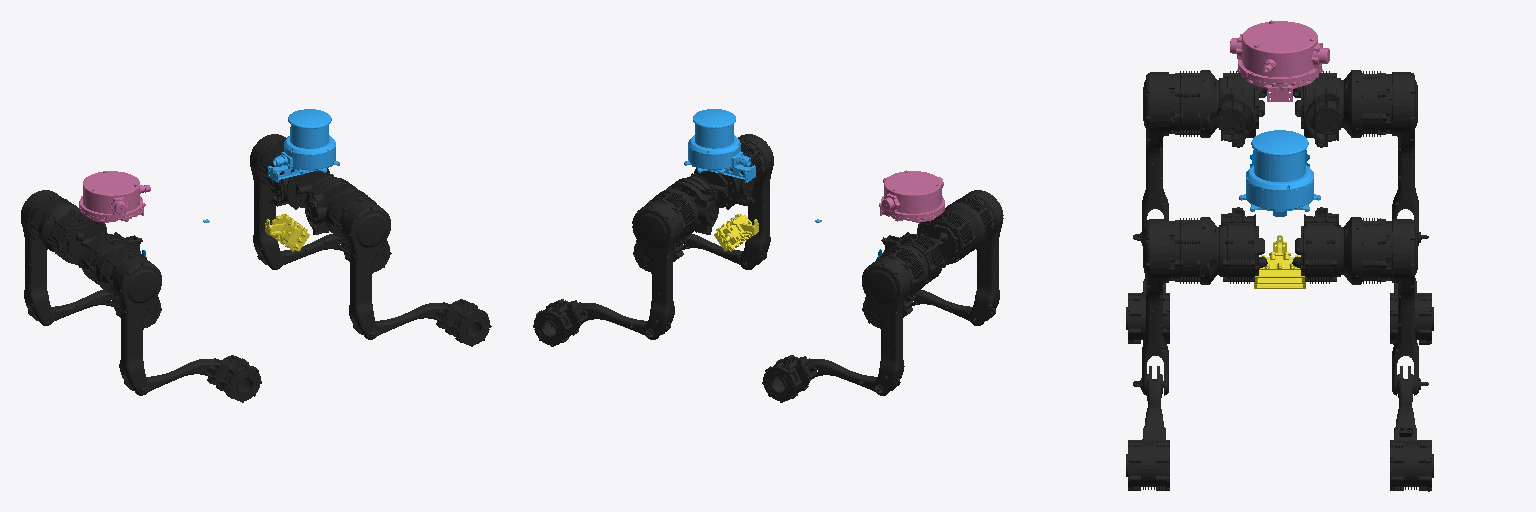
robot.urdf — robot:
<?xml version='1.0' encoding='utf-8'?>
<robot name="robot">
  <material name="black">
    <color rgba="0.0 0.0 0.0 1.0" />
  </material>
  <material name="blue">
    <color rgba="0.0 0.0 0.8 1.0" />
  </material>
  <material name="green">
    <color rgba="0.0 0.8 0.0 1.0" />
  </material>
  <material name="grey">
    <color rgba="0.2 0.2 0.2 1.0" />
  </material>
  <material name="silver">
    <color rgba="0.9137254901960784 0.9137254901960784 0.8470588235294118 1.0" />
  </material>
  <material name="orange">
    <color rgba="1.0 0.4235294117647059 0.0392156862745098 1.0" />
  </material>
  <material name="brown">
    <color rgba="0.8705882352941177 0.8117647058823529 0.7647058823529411 1.0" />
  </material>
  <material name="red">
    <color rgba="0.8 0.0 0.0 1.0" />
  </material>
  <material name="white">
    <color rgba="1.0 1.0 1.0 1.0" />
  </material>
  <material name="body">
    <color rgba="0.73 0.73 0.73 1.0" />
  </material>
  <material name="lidar">
    <color rgba="0.25 0.7 1 1.0" />
  </material>
  <link name="base">
    <visual>
      <origin rpy="0 0 0" xyz="0 0 0" />
      <geometry>
        <mesh filename="../meshes/x5/trunk.STL" scale="1 1 1" />
      </geometry>
      <material name="body" />
    </visual>
    <collision>
      <origin rpy="0 0 0" xyz="0 0 0" />
      <geometry>
        <box size="0.423 0.404 0.252" />
      </geometry>
    </collision>
    <inertial>
      <origin rpy="0 0 0" xyz="-0.011007 -0.009119 0.02432" />
      <mass value="46.707585" />
      <inertia ixx="0.779484" ixy="-0.002614" ixz="-0.012602" iyy="1.573689" iyz="0.006043" izz="1.943058" />
    </inertial>
  </link>
  <joint name="robot_imu_joint" type="fixed">
    <origin rpy="0. 0. 0." xyz="0. 0. 0." />
    <parent link="base" />
    <child link="robot_imu" />
  </joint>
  <link name="robot_imu">
    <inertial>
      <mass value="0.01" />
      <origin rpy="0 0 0" xyz="0 0 0" />
      <inertia ixx="0.000001" ixy="0" ixz="0" iyy="0.000001" iyz="0" izz="0.000001" />
    </inertial>
    <visual>
      <origin rpy="0 0 0" xyz="0 0 0" />
      <geometry>
        <box size="0.015 0.015 0.004" />
      </geometry>
    </visual>
    <material name="orange">
      <color rgba="255 108 10 255" />
    </material>
  </link>
  <joint name="robot_lidar_joint" type="fixed">
    <origin rpy="0. 0. 0." xyz="0.342 0 0.1455" />
    <parent link="base" />
    <child link="robot_lidar" />
  </joint>
  <link name="robot_lidar">
    <inertial>
      <mass value="3.2" />
      <origin rpy="0 0 0" xyz="-0.007263 -7.5e-05 0.008957" />
      <inertia ixx="0.009862" ixy="-1e-06" ixz="0.001287" iyy="0.012102" iyz="1e-05" izz="0.009133" />
    </inertial>
    <visual>
      <geometry>
        <mesh filename="../meshes/x5/lidar.STL" scale="1 1 1" />
      </geometry>
      <material name="lidar" />
    </visual>
  </link>
  <joint name="front_camera_joint" type="fixed">
    <origin rpy="0 0 0" xyz="0.203 0 -0.065" />
    <parent link="base" />
    <child link="front_camera" />
  </joint>
  <link name="front_camera">
    <inertial>
      <mass value="0.614" />
      <origin rpy="0 0 0" xyz="0.067231 0.006821 -0.02655" />
      <inertia ixx="0.001179" ixy="-2.3e-05" ixz="-3.6e-05" iyy="0.000629" iyz="2.7e-05" izz="0.001319" />
    </inertial>
    <visual>
      <geometry>
        <mesh filename="../meshes/x5/front_camera.STL" scale="1 1 1" />
      </geometry>
    </visual>
  </link>
  <joint name="rear_camera_joint" type="fixed">
    <origin rpy="0 0 3.141592653589793" xyz="-0.203 0 -0.065" />
    <parent link="base" />
    <child link="rear_camera" />
  </joint>
  <link name="rear_camera">
    <inertial>
      <mass value="0.614" />
      <origin rpy="0 0 0" xyz="0.067231 -0.006821 -0.02655" />
      <inertia ixx="0.001179" ixy="2.3e-05" ixz="-3.6e-05" iyy="0.000629" iyz="-2.7e-05" izz="0.001319" />
    </inertial>
    <visual>
      <geometry>
        <mesh filename="../meshes/x5/front_camera.STL" scale="1 1 1" />
      </geometry>
    </visual>
  </link>
  <joint name="robot_ptz_joint" type="fixed">
    <origin rpy="0 0 0" xyz="0.102 0 0.2325" />
    <parent link="base" />
    <child link="robot_ptz" />
  </joint>
  <link name="robot_ptz">
    <inertial>
      <mass value="10" />
      <origin rpy="0 0 0" xyz="-0.003022 -0.010044 0.06516" />
      <inertia ixx="0.024739" ixy="0.000221" ixz="-0.000325" iyy="0.019073" iyz="-0.001701" izz="0.013692" />
    </inertial>
    <visual>
      <geometry>
        <mesh filename="../meshes/x5/PTZ.STL" scale="1 1 1" />
      </geometry>
      <material name="ptz" />
    </visual>
  </link>
  <joint name="robot_fire_joint" type="fixed">
    <origin rpy="0 0 0" xyz="-0.3125 0 0.154" />
    <parent link="base" />
    <child link="robot_fire" />
  </joint>
  <link name="robot_fire">
    <inertial>
      <mass value="2.48" />
      <origin rpy="0 0 0" xyz="0.004344 -0.000615 -0.007606" />
      <inertia ixx="0.007986" ixy="0.000322" ixz="-0.000166" iyy="0.007455" iyz="-2.9e-05" izz="0.01165" />
    </inertial>
    <visual>
      <geometry>
        <mesh filename="../meshes/x5/fire.STL" scale="1 1 1" />
      </geometry>
    </visual>
  </link>
  <joint name="RF_HAA" type="revolute">
    <origin rpy="0 0 0" xyz="0.2905 -0.106 0.00125" />
    <parent link="base" />
    <child link="RF_hip" />
    <axis xyz="1 0 0" />
    <dynamics damping="0" friction="0" />
    <limit effort="300" lower="-0.87" upper="0.72" velocity="6" />
  </joint>
  <link name="RF_hip">
    <visual>
      <geometry>
        <mesh filename="../meshes/x5/hip_mirror.STL" scale="1 1 1" />
      </geometry>
      <material name="grey" />
    </visual>
    <collision>
      <origin rpy="0 1.5707963267948966 0" xyz="-0.04425 0 0" />
      <geometry>
        <cylinder length="0.08" radius="0.065" />
      </geometry>
    </collision>
    <inertial>
      <origin rpy="0 0 0" xyz="0.063485 0.012296 0.004802" />
      <mass value="3.8" />
      <inertia ixx="0.009206" ixy="0.00024" ixz="0.000104" iyy="0.013536" iyz="0.000107" izz="0.010793" />
    </inertial>
  </link>
  <joint name="RF_HFE" type="revolute">
    <origin rpy="0 0 0" xyz="0.0878 -0.1675 0" />
    <parent link="RF_hip" />
    <child link="RF_thigh" />
    <axis xyz="0 1 0" />
    <dynamics damping="0" friction="0" />
    <limit effort="250" lower="-1.83" upper="2.618" velocity="6" />
  </joint>
  <link name="RF_thigh">
    <visual>
      <origin rpy="0 0 0" xyz="0 0 0" />
      <geometry>
        <mesh filename="../meshes/x5/thigh_mirror.STL" scale="1 1 1" />
      </geometry>
      <material name="grey" />
    </visual>
    <collision>
      <origin rpy="1.57 0 0" xyz="0 0.172 0" />
      <geometry>
        <cylinder length="0.08" radius="0.065" />
      </geometry>
    </collision>
    <collision>
      <origin rpy="1.57 0 0" xyz="0 0.0735 0" />
      <geometry>
        <cylinder length="0.08" radius="0.065" />
      </geometry>
    </collision>
    <collision>
      <origin rpy="0 1.5707963267948966 0" xyz="-0.01 0 -0.16" />
      <geometry>
        <box size="0.22 0.04 0.04" />
      </geometry>
    </collision>
    <inertial>
      <origin rpy="0 0 0" xyz="-0.002806 0.065016 -0.02469" />
      <mass value="4.760548" />
      <inertia ixx="0.040126" ixy="0.0009" ixz="0.002173" iyy="0.035414" iyz="0.006253" izz="0.016667" />
    </inertial>
  </link>
  <joint name="RF_KFE" type="revolute">
    <origin rpy="0 0 0" xyz="0 0.0 -0.32" />
    <parent link="RF_thigh" />
    <child link="RF_calf" />
    <axis xyz="0 1 0" />
    <dynamics damping="0" friction="0" />
    <limit effort="250" lower="-2.43" upper="-0.41" velocity="8" />
  </joint>
  <link name="RF_calf">
    <visual>
      <origin rpy="0 0 0" xyz="0 0 0" />
      <geometry>
        <mesh filename="../meshes/x5/calf_mirror.STL" scale="1 1 1" />
      </geometry>
      <material name="grey" />
    </visual>
    <collision>
      <origin rpy="0 1.5707963267948966 0" xyz="0 0 -0.16" />
      <geometry>
        <box size="0.27 0.010000000000000002 0.05" />
      </geometry>
    </collision>
    <inertial>
      <origin rpy="0 0 0" xyz="-0.004459 -0.006099 -0.214568" />
      <mass value="3.258139" />
      <inertia ixx="0.093479" ixy="0.000129" ixz="0.002676" iyy="0.093858" iyz="0.001795" izz="0.001266" />
    </inertial>
  </link>
  <joint name="RF_WHEEL" type="continuous">
    <origin rpy="0 0 0" xyz="-0.00029 -0.053 -0.32" />
    <parent link="RF_calf" />
    <child link="RF_FOOT" />
    <axis xyz="0 1 0" />
    <dynamics damping="0" friction="0" />
    <limit effort="30" velocity="30" />
  </joint>
  <link name="RF_FOOT">
    <visual>
      <origin rpy="0 0 0" xyz="0 0 0" />
      <geometry>
        <mesh filename="../meshes/x5/wheel_mirror.STL" scale="1 1 1" />
      </geometry>
      <material name="orange" />
    </visual>
    <collision>
      <origin rpy="1.5707963267948966 0 0" xyz="0 0 0" />
      <geometry>
        <cylinder length="0.04" radius="0.1005" />
      </geometry>
    </collision>
    <collision>
      <origin rpy="1.5707963267948966 0 0" xyz="0 0.04825 0" />
      <geometry>
        <cylinder length="0.08" radius="0.065" />
      </geometry>
    </collision>
    <inertial>
      <origin rpy="0 0 0" xyz="1.1e-05 0.003943 2e-05" />
      <mass value="1.22" />
      <inertia ixx="0.002046" ixy="-0.0" ixz="0.0" iyy="0.003811" iyz="-0.0" izz="0.002046" />
    </inertial>
  </link>
  <joint name="LF_HAA" type="revolute">
    <origin rpy="0 0 0" xyz="0.2905 0.106 0.00125" />
    <parent link="base" />
    <child link="LF_hip" />
    <axis xyz="1 0 0" />
    <dynamics damping="0" friction="0" />
    <limit effort="300" lower="-0.72" upper="0.87" velocity="6" />
  </joint>
  <link name="LF_hip">
    <visual>
      <origin rpy="0 0 0" xyz="0 0 0" />
      <geometry>
        <mesh filename="../meshes/x5/hip.STL" scale="1 1 1" />
      </geometry>
      <material name="grey" />
    </visual>
    <collision>
      <origin rpy="0 1.5707963267948966 0" xyz="-0.04425 0 0" />
      <geometry>
        <cylinder length="0.08" radius="0.065" />
      </geometry>
    </collision>
    <inertial>
      <origin rpy="0 0 0" xyz="0.063485 -0.012296 0.004802" />
      <mass value="3.8" />
      <inertia ixx="0.009206" ixy="-0.00024" ixz="0.000104" iyy="0.013536" iyz="-0.000107" izz="0.010793" />
    </inertial>
  </link>
  <joint name="LF_HFE" type="revolute">
    <origin rpy="0 0 0" xyz="0.0878 0.1675 0" />
    <parent link="LF_hip" />
    <child link="LF_thigh" />
    <axis xyz="0 1 0" />
    <dynamics damping="0" friction="0" />
    <limit effort="250" lower="-1.83" upper="2.618" velocity="6" />
  </joint>
  <link name="LF_thigh">
    <visual>
      <origin rpy="0 0 0" xyz="0 0 0" />
      <geometry>
        <mesh filename="../meshes/x5/thigh.STL" scale="1 1 1" />
      </geometry>
      <material name="grey" />
    </visual>
    <collision>
      <origin rpy="1.57 0 0" xyz="0 -0.172 0" />
      <geometry>
        <cylinder length="0.08" radius="0.065" />
      </geometry>
    </collision>
    <collision>
      <origin rpy="1.57 0 0" xyz="0 -0.0735 0" />
      <geometry>
        <cylinder length="0.08" radius="0.065" />
      </geometry>
    </collision>
    <collision>
      <origin rpy="0 1.5707963267948966 0" xyz="-0.01 0 -0.16" />
      <geometry>
        <box size="0.22 0.04 0.04" />
      </geometry>
    </collision>
    <inertial>
      <origin rpy="0 0 0" xyz="-0.002806 -0.065016 -0.02469" />
      <mass value="4.760548" />
      <inertia ixx="0.040126" ixy="-0.0009" ixz="0.002173" iyy="0.035414" iyz="-0.006253" izz="0.016667" />
    </inertial>
  </link>
  <joint name="LF_KFE" type="revolute">
    <origin rpy="0 0 0" xyz="0 -0.0 -0.32" />
    <parent link="LF_thigh" />
    <child link="LF_calf" />
    <axis xyz="0 1 0" />
    <dynamics damping="0" friction="0" />
    <limit effort="250" lower="-2.43" upper="-0.41" velocity="8" />
  </joint>
  <link name="LF_calf">
    <visual>
      <origin rpy="0 0 0" xyz="0 0 0" />
      <geometry>
        <mesh filename="../meshes/x5/calf.STL" scale="1 1 1" />
      </geometry>
      <material name="grey" />
    </visual>
    <collision>
      <origin rpy="0 1.5707963267948966 0" xyz="0 0 -0.16" />
      <geometry>
        <box size="0.27 0.010000000000000002 0.05" />
      </geometry>
    </collision>
    <inertial>
      <origin rpy="0 0 0" xyz="-0.004459 0.006099 -0.214568" />
      <mass value="3.258139" />
      <inertia ixx="0.093479" ixy="-0.000129" ixz="0.002676" iyy="0.093858" iyz="-0.001795" izz="0.001266" />
    </inertial>
  </link>
  <joint name="LF_WHEEL" type="continuous">
    <origin rpy="0 0 0" xyz="0.00029 0.053 -0.32" />
    <parent link="LF_calf" />
    <child link="LF_FOOT" />
    <axis xyz="0 1 0" />
    <dynamics damping="0" friction="0" />
    <limit effort="30" velocity="30" />
  </joint>
  <link name="LF_FOOT">
    <visual>
      <origin rpy="0 0 0" xyz="0 0 0" />
      <geometry>
        <mesh filename="../meshes/x5/wheel.STL" scale="1 1 1" />
      </geometry>
      <material name="orange" />
    </visual>
    <collision>
      <origin rpy="1.5707963267948966 0 0" xyz="0 0 0" />
      <geometry>
        <cylinder length="0.04" radius="0.1005" />
      </geometry>
    </collision>
    <collision>
      <origin rpy="1.5707963267948966 0 0" xyz="0 -0.04825 0" />
      <geometry>
        <cylinder length="0.08" radius="0.065" />
      </geometry>
    </collision>
    <inertial>
      <origin rpy="0 0 0" xyz="1.1e-05 -0.003943 2e-05" />
      <mass value="1.22" />
      <inertia ixx="0.002046" ixy="0.0" ixz="0.0" iyy="0.003811" iyz="0.0" izz="0.002046" />
    </inertial>
  </link>
  <joint name="RH_HAA" type="revolute">
    <origin rpy="0 0 0" xyz="-0.2905 -0.106 0.00125" />
    <parent link="base" />
    <child link="RH_hip" />
    <axis xyz="1 0 0" />
    <dynamics damping="0" friction="0" />
    <limit effort="300" lower="-0.87" upper="0.72" velocity="6" />
  </joint>
  <link name="RH_hip">
    <visual>
      <origin rpy="0 3.141592653589793 0" xyz="0 0 0" />
      <geometry>
        <mesh filename="../meshes/x5/hip_mirror.STL" scale="1 1 1" />
      </geometry>
      <material name="grey" />
    </visual>
    <collision>
      <origin rpy="0 1.5707963267948966 0" xyz="0.04425 0 0" />
      <geometry>
        <cylinder length="0.08" radius="0.065" />
      </geometry>
    </collision>
    <inertial>
      <origin rpy="0 0 0" xyz="-0.063485 0.012296 0.004802" />
      <mass value="3.8" />
      <inertia ixx="0.009206" ixy="-0.00024" ixz="-0.000104" iyy="0.013536" iyz="0.000107" izz="0.010793" />
    </inertial>
  </link>
  <joint name="RH_HFE" type="revolute">
    <origin rpy="0 0 0" xyz="-0.0878 -0.1675 0" />
    <parent link="RH_hip" />
    <child link="RH_thigh" />
    <axis xyz="0 1 0" />
    <dynamics damping="0" friction="0" />
    <limit effort="250" lower="-1.83" upper="2.618" velocity="6" />
  </joint>
  <link name="RH_thigh">
    <visual>
      <origin rpy="0 0 0" xyz="0 0 0" />
      <geometry>
        <mesh filename="../meshes/x5/thigh_mirror.STL" scale="1 1 1" />
      </geometry>
      <material name="grey" />
    </visual>
    <collision>
      <origin rpy="1.57 0 0" xyz="0 0.172 0" />
      <geometry>
        <cylinder length="0.08" radius="0.065" />
      </geometry>
    </collision>
    <collision>
      <origin rpy="1.57 0 0" xyz="0 0.0735 0" />
      <geometry>
        <cylinder length="0.08" radius="0.065" />
      </geometry>
    </collision>
    <collision>
      <origin rpy="0 1.5707963267948966 0" xyz="-0.01 0 -0.16" />
      <geometry>
        <box size="0.22 0.04 0.04" />
      </geometry>
    </collision>
    <inertial>
      <origin rpy="0 0 0" xyz="-0.002806 0.065016 -0.02469" />
      <mass value="4.760548" />
      <inertia ixx="0.040126" ixy="0.0009" ixz="0.002173" iyy="0.035414" iyz="0.006253" izz="0.016667" />
    </inertial>
  </link>
  <joint name="RH_KFE" type="revolute">
    <origin rpy="0 0 0" xyz="0 0.0 -0.32" />
    <parent link="RH_thigh" />
    <child link="RH_calf" />
    <axis xyz="0 1 0" />
    <dynamics damping="0" friction="0" />
    <limit effort="250" lower="-2.43" upper="-0.41" velocity="8" />
  </joint>
  <link name="RH_calf">
    <visual>
      <origin rpy="0 0 0" xyz="0 0 0" />
      <geometry>
        <mesh filename="../meshes/x5/calf_mirror.STL" scale="1 1 1" />
      </geometry>
      <material name="grey" />
    </visual>
    <collision>
      <origin rpy="0 1.5707963267948966 0" xyz="0 0 -0.16" />
      <geometry>
        <box size="0.27 0.010000000000000002 0.05" />
      </geometry>
    </collision>
    <inertial>
      <origin rpy="0 0 0" xyz="-0.004459 -0.006099 -0.214568" />
      <mass value="3.258139" />
      <inertia ixx="0.093479" ixy="0.000129" ixz="0.002676" iyy="0.093858" iyz="0.001795" izz="0.001266" />
    </inertial>
  </link>
  <joint name="RH_WHEEL" type="continuous">
    <origin rpy="0 0 0" xyz="-0.00029 -0.053 -0.32" />
    <parent link="RH_calf" />
    <child link="RH_FOOT" />
    <axis xyz="0 1 0" />
    <dynamics damping="0" friction="0" />
    <limit effort="30" velocity="30" />
  </joint>
  <link name="RH_FOOT">
    <visual>
      <origin rpy="0 0 0" xyz="0 0 0" />
      <geometry>
        <mesh filename="../meshes/x5/wheel_mirror.STL" scale="1 1 1" />
      </geometry>
      <material name="orange" />
    </visual>
    <collision>
      <origin rpy="1.5707963267948966 0 0" xyz="0 0 0" />
      <geometry>
        <cylinder length="0.04" radius="0.1005" />
      </geometry>
    </collision>
    <collision>
      <origin rpy="1.5707963267948966 0 0" xyz="0 0.04825 0" />
      <geometry>
        <cylinder length="0.08" radius="0.065" />
      </geometry>
    </collision>
    <inertial>
      <origin rpy="0 0 0" xyz="1.1e-05 0.003943 2e-05" />
      <mass value="1.22" />
      <inertia ixx="0.002046" ixy="-0.0" ixz="0.0" iyy="0.003811" iyz="-0.0" izz="0.002046" />
    </inertial>
  </link>
  <joint name="LH_HAA" type="revolute">
    <origin rpy="0 0 0" xyz="-0.2905 0.106 0.00125" />
    <parent link="base" />
    <child link="LH_hip" />
    <axis xyz="1 0 0" />
    <dynamics damping="0" friction="0" />
    <limit effort="300" lower="-0.72" upper="0.87" velocity="6" />
  </joint>
  <link name="LH_hip">
    <visual>
      <origin rpy="0 3.141592653589793 0" xyz="0 0 0" />
      <geometry>
        <mesh filename="../meshes/x5/hip.STL" scale="1 1 1" />
      </geometry>
      <material name="grey" />
    </visual>
    <collision>
      <origin rpy="0 1.5707963267948966 0" xyz="0.04425 0 0" />
      <geometry>
        <cylinder length="0.08" radius="0.065" />
      </geometry>
    </collision>
    <inertial>
      <origin rpy="0 0 0" xyz="-0.063485 -0.012296 0.004802" />
      <mass value="3.8" />
      <inertia ixx="0.009206" ixy="0.00024" ixz="-0.000104" iyy="0.013536" iyz="-0.000107" izz="0.010793" />
    </inertial>
  </link>
  <joint name="LH_HFE" type="revolute">
    <origin rpy="0 0 0" xyz="-0.0878 0.1675 0" />
    <parent link="LH_hip" />
    <child link="LH_thigh" />
    <axis xyz="0 1 0" />
    <dynamics damping="0" friction="0" />
    <limit effort="250" lower="-1.83" upper="2.618" velocity="6" />
  </joint>
  <link name="LH_thigh">
    <visual>
      <origin rpy="0 0 0" xyz="0 0 0" />
      <geometry>
        <mesh filename="../meshes/x5/thigh.STL" scale="1 1 1" />
      </geometry>
      <material name="grey" />
    </visual>
    <collision>
      <origin rpy="1.57 0 0" xyz="0 -0.172 0" />
      <geometry>
        <cylinder length="0.08" radius="0.065" />
      </geometry>
    </collision>
    <collision>
      <origin rpy="1.57 0 0" xyz="0 -0.0735 0" />
      <geometry>
        <cylinder length="0.08" radius="0.065" />
      </geometry>
    </collision>
    <collision>
      <origin rpy="0 1.5707963267948966 0" xyz="-0.01 0 -0.16" />
      <geometry>
        <box size="0.22 0.04 0.04" />
      </geometry>
    </collision>
    <inertial>
      <origin rpy="0 0 0" xyz="-0.002806 -0.065016 -0.02469" />
      <mass value="4.760548" />
      <inertia ixx="0.040126" ixy="-0.0009" ixz="0.002173" iyy="0.035414" iyz="-0.006253" izz="0.016667" />
    </inertial>
  </link>
  <joint name="LH_KFE" type="revolute">
    <origin rpy="0 0 0" xyz="0 -0.0 -0.32" />
    <parent link="LH_thigh" />
    <child link="LH_calf" />
    <axis xyz="0 1 0" />
    <dynamics damping="0" friction="0" />
    <limit effort="250" lower="-2.43" upper="-0.41" velocity="8" />
  </joint>
  <link name="LH_calf">
    <visual>
      <origin rpy="0 0 0" xyz="0 0 0" />
      <geometry>
        <mesh filename="../meshes/x5/calf.STL" scale="1 1 1" />
      </geometry>
      <material name="grey" />
    </visual>
    <collision>
      <origin rpy="0 1.5707963267948966 0" xyz="0 0 -0.16" />
      <geometry>
        <box size="0.27 0.010000000000000002 0.05" />
      </geometry>
    </collision>
    <inertial>
      <origin rpy="0 0 0" xyz="-0.004459 0.006099 -0.214568" />
      <mass value="3.258139" />
      <inertia ixx="0.093479" ixy="-0.000129" ixz="0.002676" iyy="0.093858" iyz="-0.001795" izz="0.001266" />
    </inertial>
  </link>
  <joint name="LH_WHEEL" type="continuous">
    <origin rpy="0 0 0" xyz="0.00029 0.053 -0.32" />
    <parent link="LH_calf" />
    <child link="LH_FOOT" />
    <axis xyz="0 1 0" />
    <dynamics damping="0" friction="0" />
    <limit effort="30" velocity="30" />
  </joint>
  <link name="LH_FOOT">
    <visual>
      <origin rpy="0 0 0" xyz="0 0 0" />
      <geometry>
        <mesh filename="../meshes/x5/wheel.STL" scale="1 1 1" />
      </geometry>
      <material name="orange" />
    </visual>
    <collision>
      <origin rpy="1.5707963267948966 0 0" xyz="0 0 0" />
      <geometry>
        <cylinder length="0.04" radius="0.1005" />
      </geometry>
    </collision>
    <collision>
      <origin rpy="1.5707963267948966 0 0" xyz="0 -0.04825 0" />
      <geometry>
        <cylinder length="0.08" radius="0.065" />
      </geometry>
    </collision>
    <inertial>
      <origin rpy="0 0 0" xyz="1.1e-05 -0.003943 2e-05" />
      <mass value="1.22" />
      <inertia ixx="0.002046" ixy="0.0" ixz="0.0" iyy="0.003811" iyz="0.0" izz="0.002046" />
    </inertial>
  </link>
</robot>

--- Facts derived from the render (not from the file) ---
3 views of the same robot in one strip: view 1: azimuth 30°, elevation 25°; view 2: azimuth 150°, elevation 25°; view 3: azimuth 270°, elevation 25° (orthographic).
Model robot with 23 links and 22 joints (12 revolute, 4 continuous, 6 fixed), rooted at base, posed joints at zero except 4 at the middle of their limits (RF_KFE = -1.42, LF_KFE = -1.42, RH_KFE = -1.42, LH_KFE = -1.42).
Visible links, largest first — view 1: RH_thigh, RF_thigh, LH_thigh, robot_lidar, robot_fire, LF_thigh, RF_calf, RH_calf, LH_hip, RF_hip, LF_hip, LH_calf (+3 smaller); view 2: LH_thigh, LF_thigh, RH_thigh, robot_lidar, robot_fire, RF_thigh, LF_calf, LH_calf, RH_hip, LF_hip, RF_hip, RH_calf (+3 smaller); view 3: LF_thigh, RF_thigh, LH_thigh, RH_thigh, robot_fire, robot_lidar, LF_calf, RF_calf, LF_hip, RF_hip, RH_hip, LH_hip (+3 smaller).
Link boxes in pixels (x1,y1,x2,y2): RH_thigh: [96, 245, 161, 395]; RF_thigh: [325, 189, 390, 339]; LH_thigh: [21, 190, 79, 325]; robot_lidar: [268, 109, 339, 182]; robot_fire: [79, 171, 150, 222]; LF_thigh: [250, 134, 285, 269]; RF_calf: [353, 299, 491, 346]; RH_calf: [124, 355, 261, 402]; LH_hip: [48, 211, 107, 267]; RF_hip: [305, 174, 356, 234]; LF_hip: [269, 168, 329, 209]; LH_calf: [28, 289, 161, 329]; LH_thigh: [862, 245, 927, 395]; LF_thigh: [632, 189, 697, 339]; RH_thigh: [944, 190, 1003, 325]; robot_lidar: [684, 109, 755, 182]; robot_fire: [879, 170, 944, 222]; RF_thigh: [738, 134, 773, 269]; LF_calf: [533, 299, 670, 346]; LH_calf: [762, 355, 900, 402]; RH_hip: [917, 210, 975, 267]; LF_hip: [667, 173, 718, 234]; RF_hip: [694, 168, 754, 209]; RH_calf: [862, 290, 995, 328]; LF_thigh: [1341, 217, 1428, 395]; RF_thigh: [1133, 217, 1218, 395]; LH_thigh: [1341, 70, 1428, 245]; RH_thigh: [1133, 70, 1218, 245]; robot_fire: [1230, 20, 1329, 101]; robot_lidar: [1239, 130, 1320, 216]; LF_calf: [1390, 366, 1433, 491]; RF_calf: [1126, 366, 1169, 490]; LF_hip: [1292, 207, 1340, 283]; RF_hip: [1219, 207, 1267, 283]; RH_hip: [1213, 71, 1266, 147]; LH_hip: [1293, 71, 1342, 147].
Size in the robot's own frame: 1.2 by 0.669 by 0.6763 metres.
16 mesh visuals loaded from 13 distinct referenced files (9 binary STL); not drawn: 6 (reference not matched to a file when rendering).
